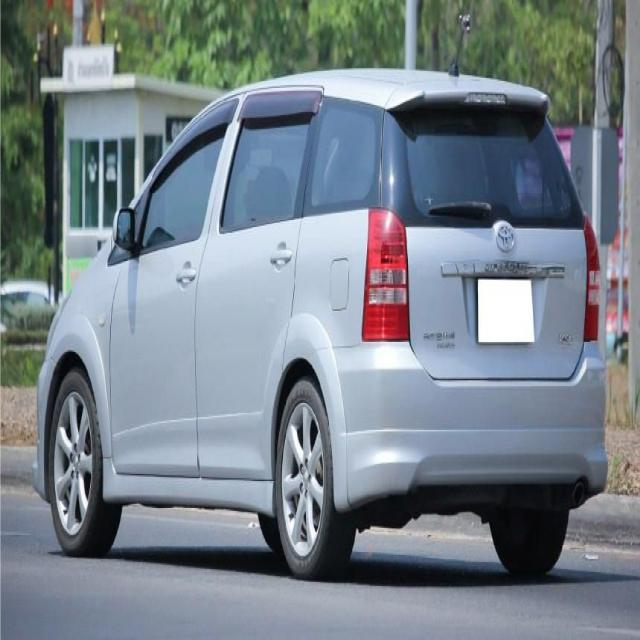back_bumper: (309, 340, 609, 511)
back_glass: (304, 97, 586, 228)
back_left_door: (194, 86, 325, 477)
back_left_light: (361, 208, 410, 343)
back_right_light: (583, 217, 600, 341)
front_left_door: (110, 92, 243, 479)
left_mirror: (112, 208, 135, 254)
trunk: (407, 219, 587, 381)
wheel: (49, 366, 569, 577)
